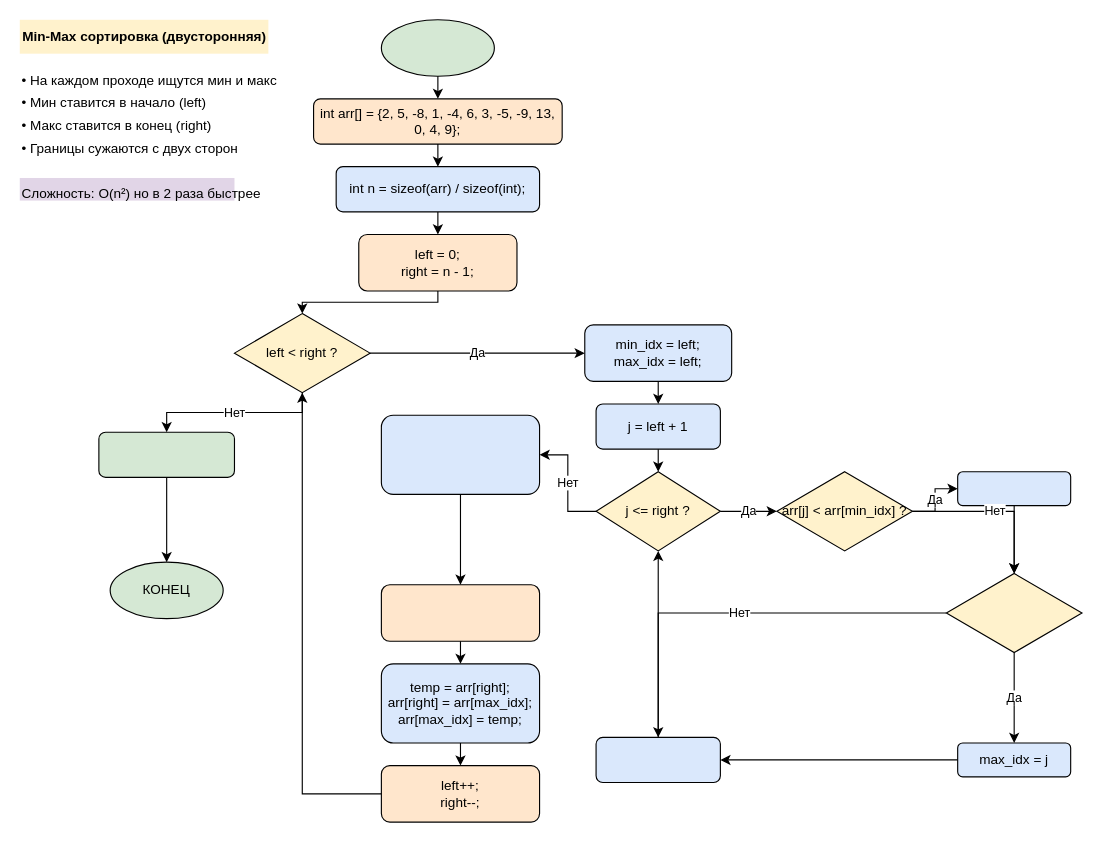
The diagram is 1102 pixels wide and 842 high, and some of its shapes have lost their labels. Here are the shapes that lost their labels. From the top down, the centre of each, then its label:
the point at 437,47: НАЧАЛО
the point at 166,454: Вывод arr[]
the point at 460,454: temp = arr[left]; arr[left] = arr[min_idx]; arr[min_idx] = temp;
the point at 1014,488: min_idx = j
the point at 460,612: Если max_idx == left, то max_idx = min_idx
the point at 1013,612: arr[j] > arr[max_idx] ?
the point at 657,759: j++
